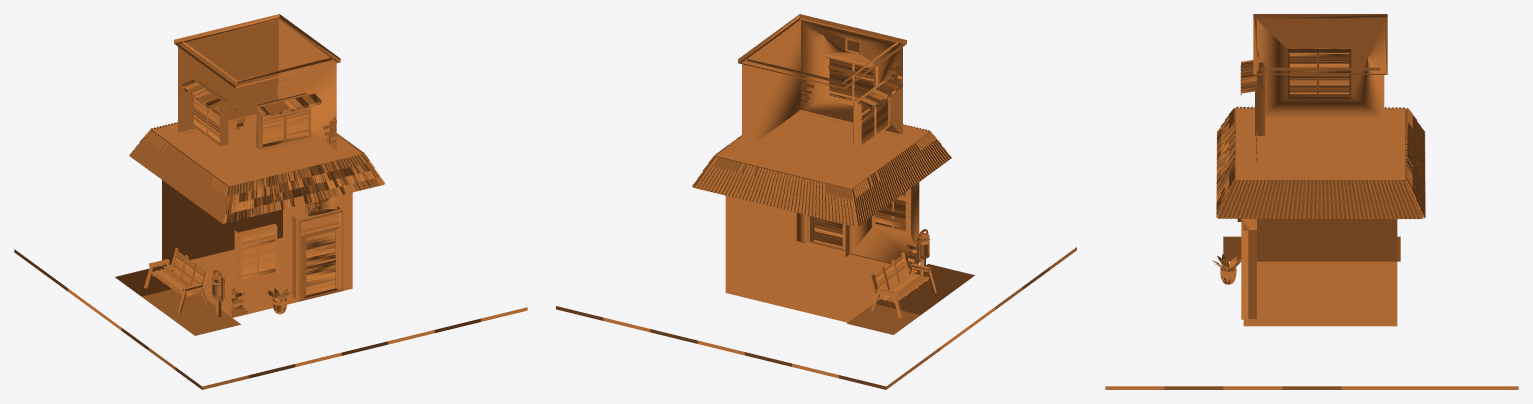
Rendered from House_Building_FBX.glb.
3 renders of one model, left to right at view 1: azimuth 30°, elevation 25°; view 2: azimuth 150°, elevation 25°; view 3: azimuth 270°, elevation 25°, orthographic. The views are drawn at different scales.
Parts seen in each view (by area): view 1: House_Building; view 2: House_Building; view 3: House_Building.
Part boxes in pixels (<box>): House_Building: <box>14,14,527,389</box>; House_Building: <box>556,14,1076,389</box>; House_Building: <box>1105,14,1518,389</box>.
Size of the model in its own units: 1060 by 723 by 1060.
